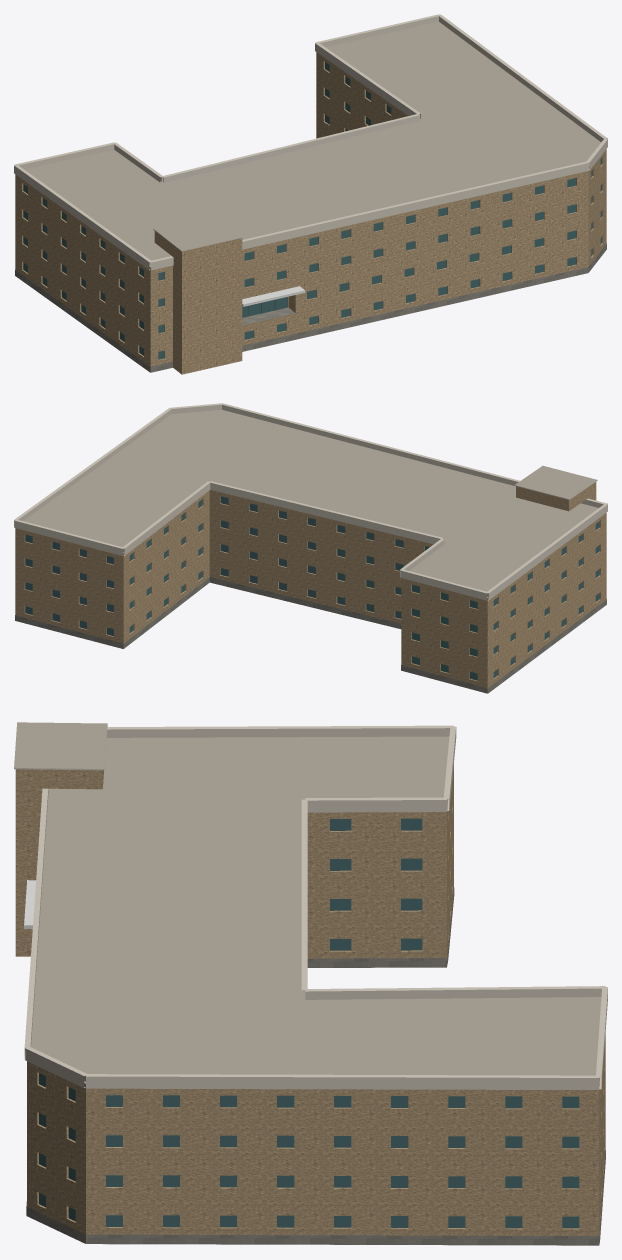
The picture shows the model from 3 angles, top to bottom: view 1: azimuth 30°, elevation 25°; view 2: azimuth 150°, elevation 25°; view 3: azimuth 270°, elevation 25°; orthographic projection. The views are drawn at different scales.
Visible parts, largest first — view 1: arts__wall, arts__roof, arts__trim, arts__glass, arts__base, arts__canopy; view 2: arts__wall, arts__roof, arts__trim, arts__glass, arts__base; view 3: arts__roof, arts__wall, arts__trim, arts__glass, arts__base.
Boxes of the visible parts, x1=… form: arts__wall: x1=15, y1=52, x2=606, y2=374; arts__roof: x1=25, y1=21, x2=600, y2=267; arts__trim: x1=14, y1=14, x2=607, y2=270; arts__glass: x1=23, y1=62, x2=601, y2=359; arts__base: x1=15, y1=243, x2=606, y2=372; arts__canopy: x1=242, y1=286, x2=305, y2=306; arts__wall: x1=15, y1=482, x2=606, y2=693; arts__roof: x1=23, y1=409, x2=598, y2=597; arts__trim: x1=14, y1=403, x2=607, y2=600; arts__glass: x1=25, y1=496, x2=599, y2=680; arts__base: x1=15, y1=577, x2=606, y2=693; arts__roof: x1=14, y1=722, x2=601, y2=1245; arts__wall: x1=15, y1=764, x2=605, y2=1243; arts__trim: x1=14, y1=725, x2=607, y2=1089; arts__glass: x1=39, y1=818, x2=579, y2=1228; arts__base: x1=26, y1=887, x2=605, y2=1245.
Size of the model in its own units: 71.83 by 18.02 by 51.17.
Materials: 8 (2 with a texture image).
